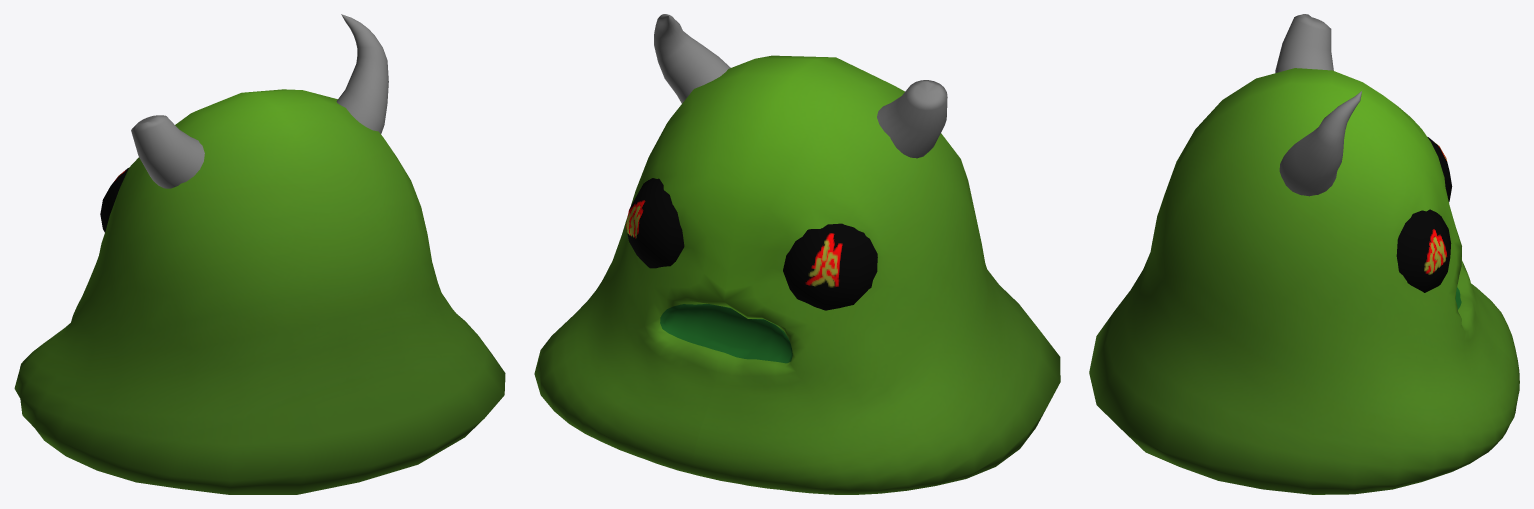
Rendered from Swarm_Model.fbx.
3 renders of one model, left to right at view 1: azimuth 30°, elevation 25°; view 2: azimuth 150°, elevation 25°; view 3: azimuth 270°, elevation 25°, orthographic. The views are drawn at different scales.
Visible parts, largest first — view 1: Swarm_Model; view 2: Swarm_Model; view 3: Swarm_Model.
Boxes of the visible parts, x1=… form: Swarm_Model: x1=14, y1=14, x2=505, y2=494; Swarm_Model: x1=534, y1=14, x2=1060, y2=494; Swarm_Model: x1=1089, y1=14, x2=1519, y2=494.
Bounding box in the file's own units: 10.23 × 8.52 × 8.99.
